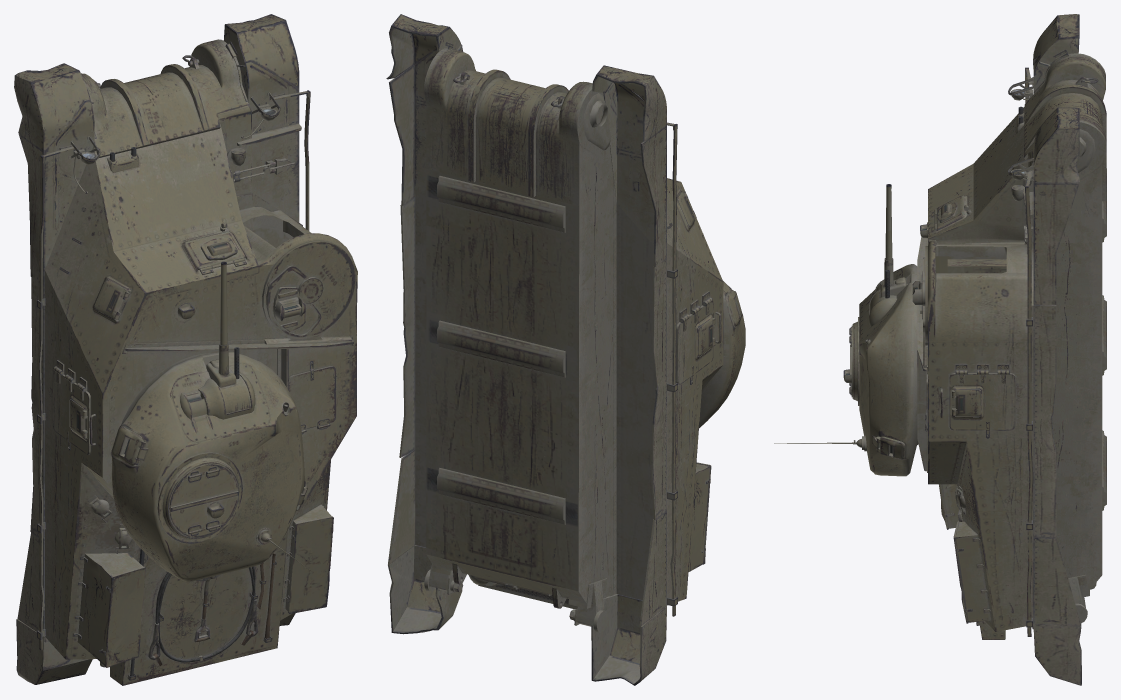
File: Hull.glb
The picture shows the model from 3 angles, left to right: view 1: azimuth 30°, elevation 25°; view 2: azimuth 150°, elevation 25°; view 3: azimuth 270°, elevation 25°; orthographic projection. The views are drawn at different scales.
Parts seen in each view (by area): view 1: set_0_group_0; view 2: set_0_group_0; view 3: set_0_group_0.
Boxes of the visible parts, left/top/right/bottom form: set_0_group_0: left=14, top=14, right=357, bottom=685; set_0_group_0: left=386, top=14, right=745, bottom=685; set_0_group_0: left=774, top=14, right=1106, bottom=685.
Bounding box in the file's own units: 2.77 × 6 × 3.23.
Materials: 1 (1 with a texture image).
